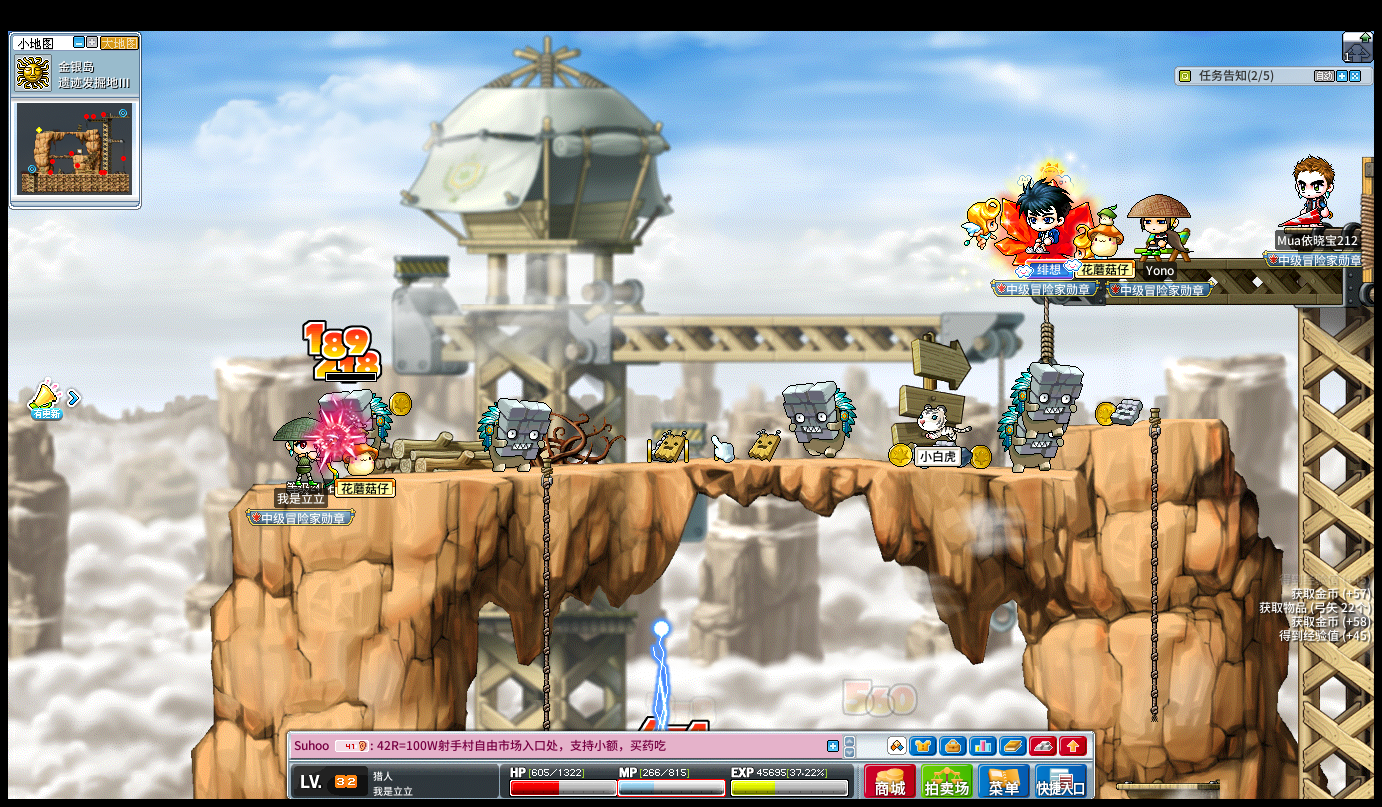floor: (281, 454, 1109, 480), (1076, 414, 1227, 430)
monster: (1000, 360, 1082, 471), (781, 379, 858, 461), (477, 397, 550, 474)
rope: (1146, 405, 1161, 723), (539, 456, 551, 747), (539, 457, 552, 673), (1040, 296, 1052, 365)
